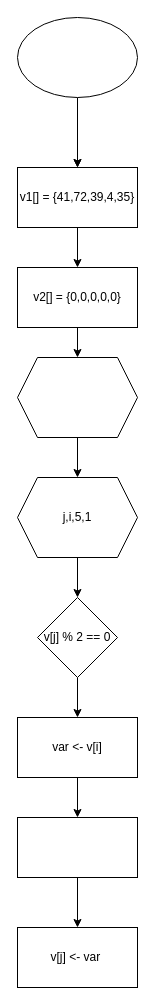
Some shapes in this 155 by 1005 pixel diagram are drawn without their labels. The box of each missing label's shape, as (x1, y1, x2, y2) in pixels:
i,0,5,1: (16, 356, 138, 438)
início: (16, 16, 138, 98)
v[i] <- v[j]: (16, 816, 138, 878)
